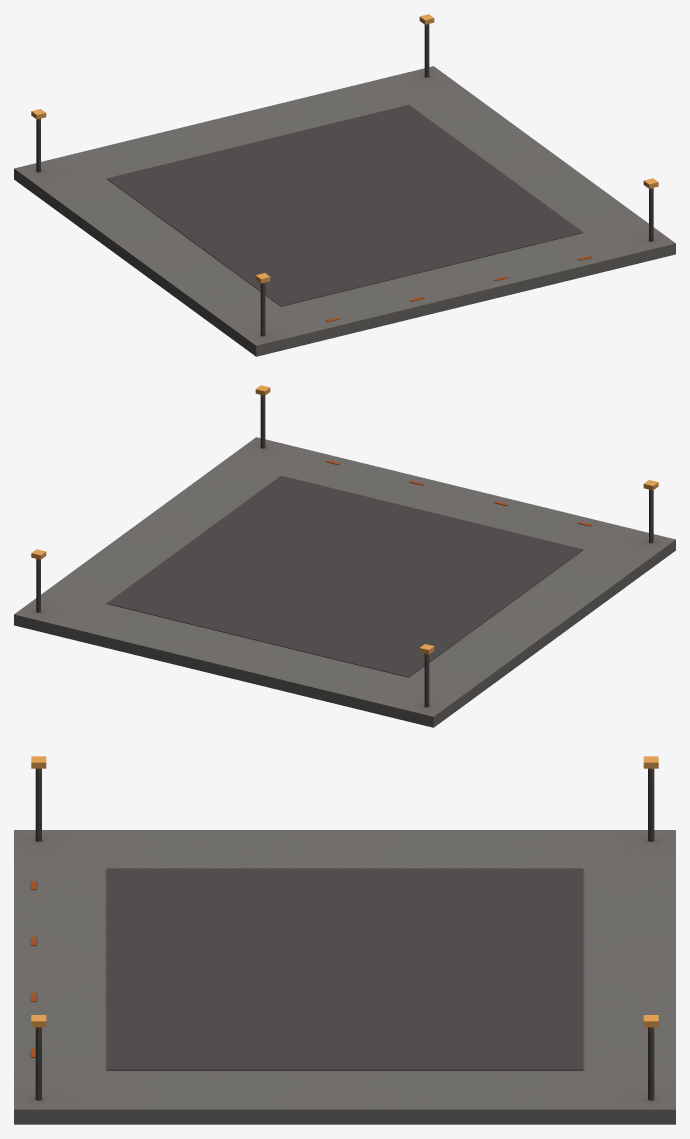
File: B_authority_pad.glb
The picture shows the model from 3 angles, top to bottom: view 1: azimuth 30°, elevation 25°; view 2: azimuth 150°, elevation 25°; view 3: azimuth 270°, elevation 25°; orthographic projection. The views are drawn at different scales.
Visible parts, largest first — view 1: Cube; view 2: Cube; view 3: Cube.
Boxes of the visible parts, <box> form: Cube: <box>14,14,675,356</box>; Cube: <box>14,385,675,727</box>; Cube: <box>14,756,675,1124</box>.
Size of the model in its own units: 40 by 6.4 by 40.
1 material, 1 textured.
